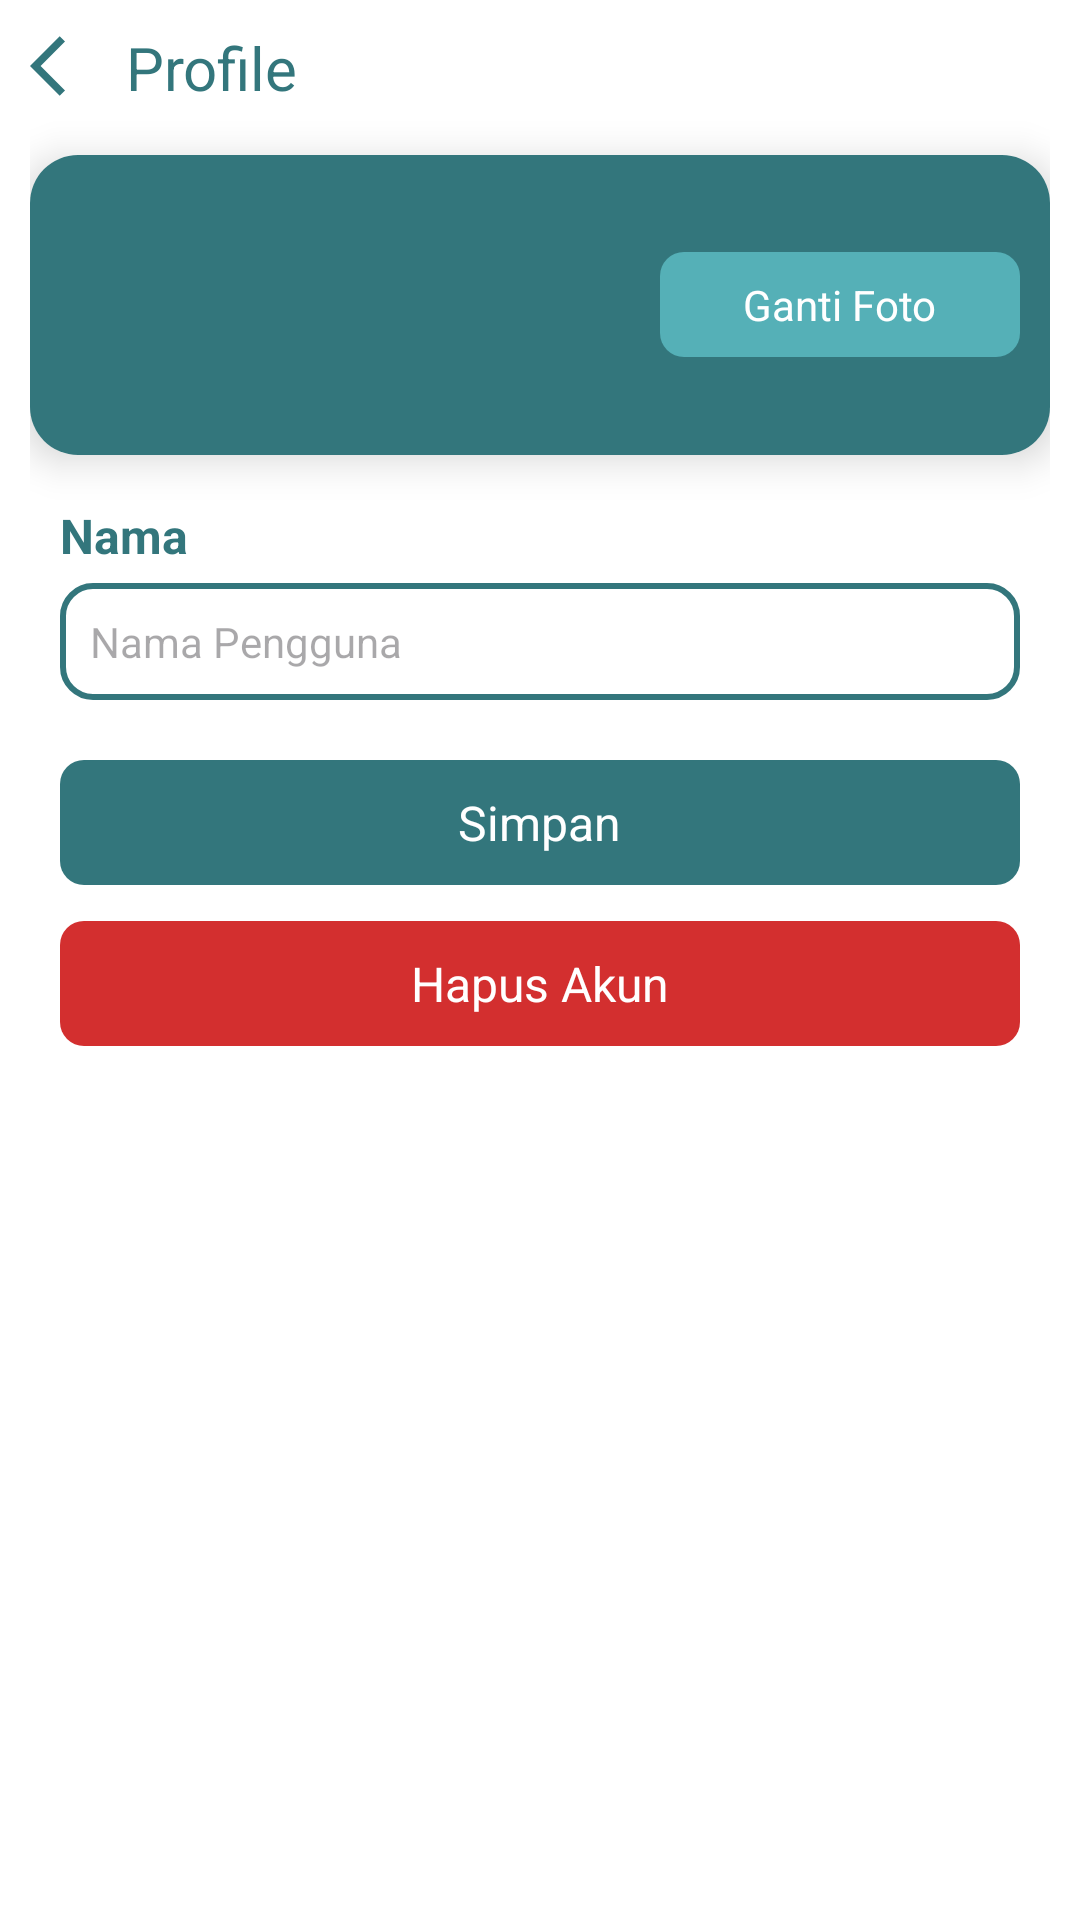

Locate icon controls on the screen. Image size 1080 x 1920, boxes as box=[x1, y1, x2, y2].
back button: box=[30, 36, 65, 96]
